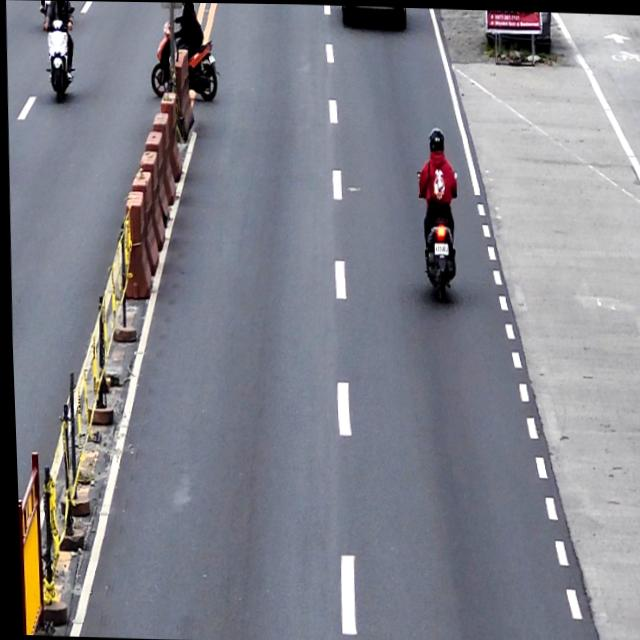License-Plate: (432, 239, 448, 255)
Motorcycle: (415, 128, 461, 301)
